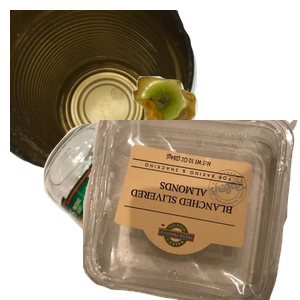glass: (41, 120, 281, 300)
metal: (10, 10, 200, 180)
plastic: (83, 120, 300, 300)
trash: (130, 74, 300, 199)
